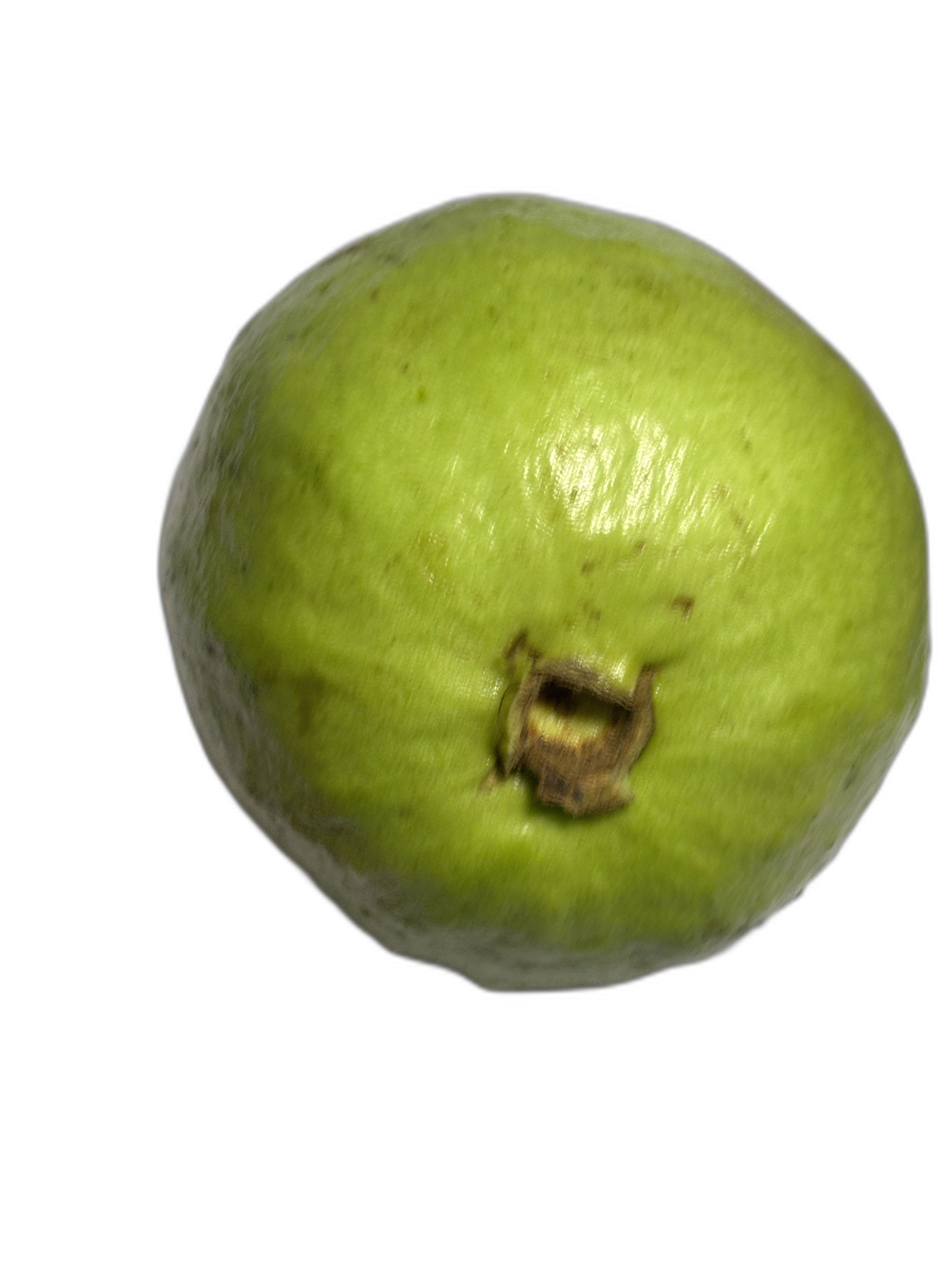guava: (192, 148, 829, 1269)
